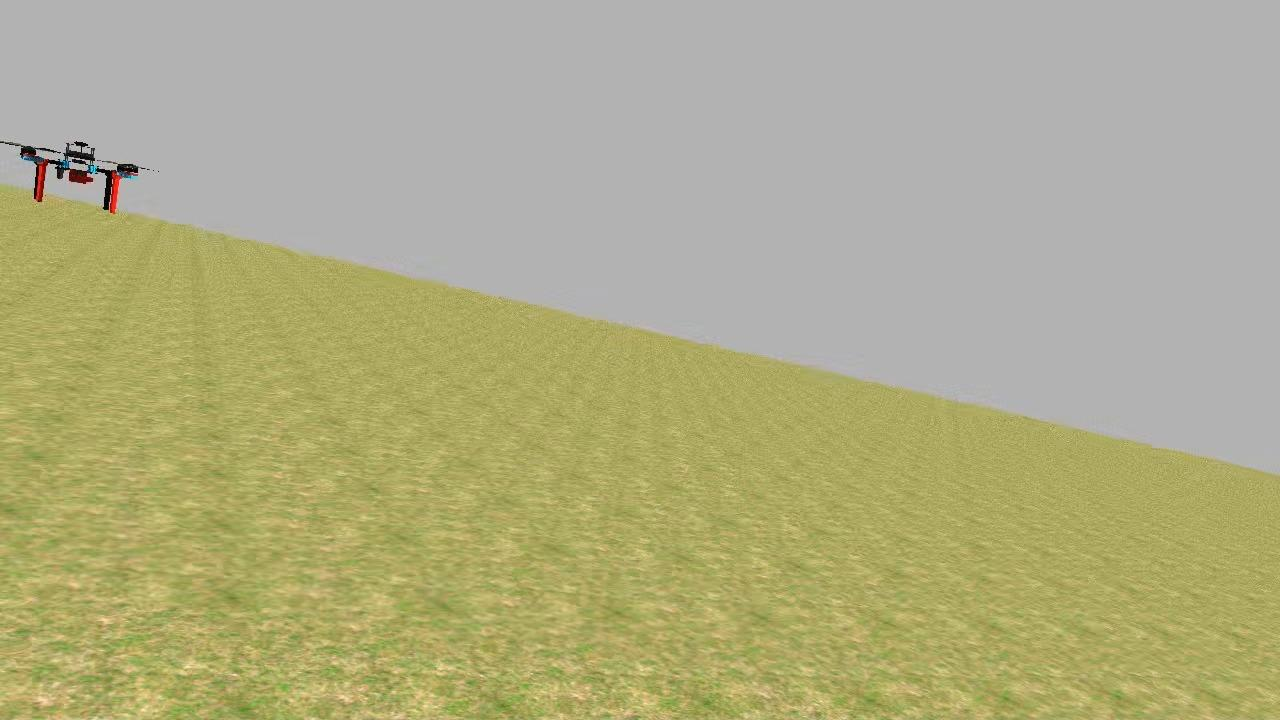UAV: (2, 130, 144, 228)
